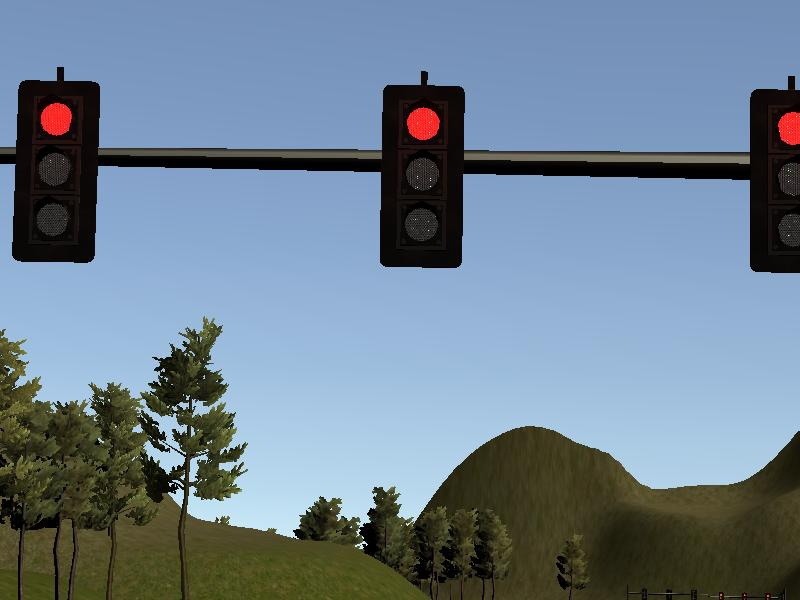red_light: (377, 85, 465, 267), (19, 84, 99, 265), (749, 90, 800, 272)
